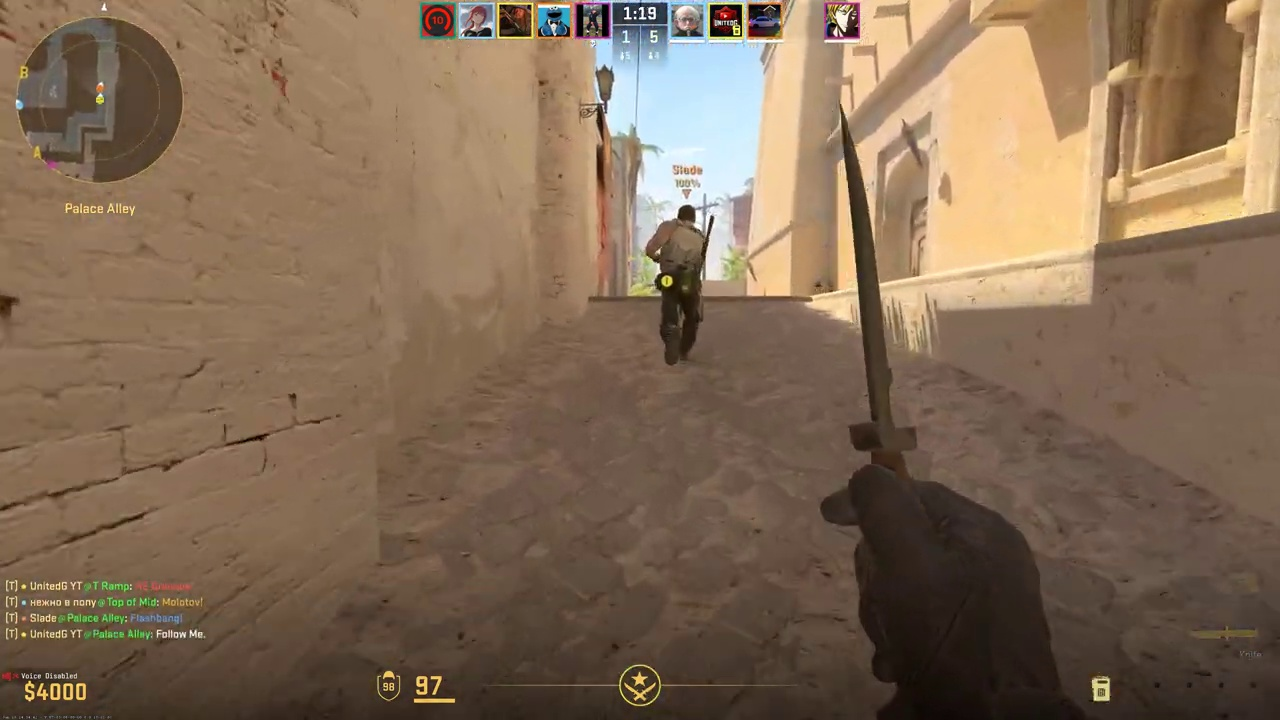Terrorist: (651, 204, 710, 365)
